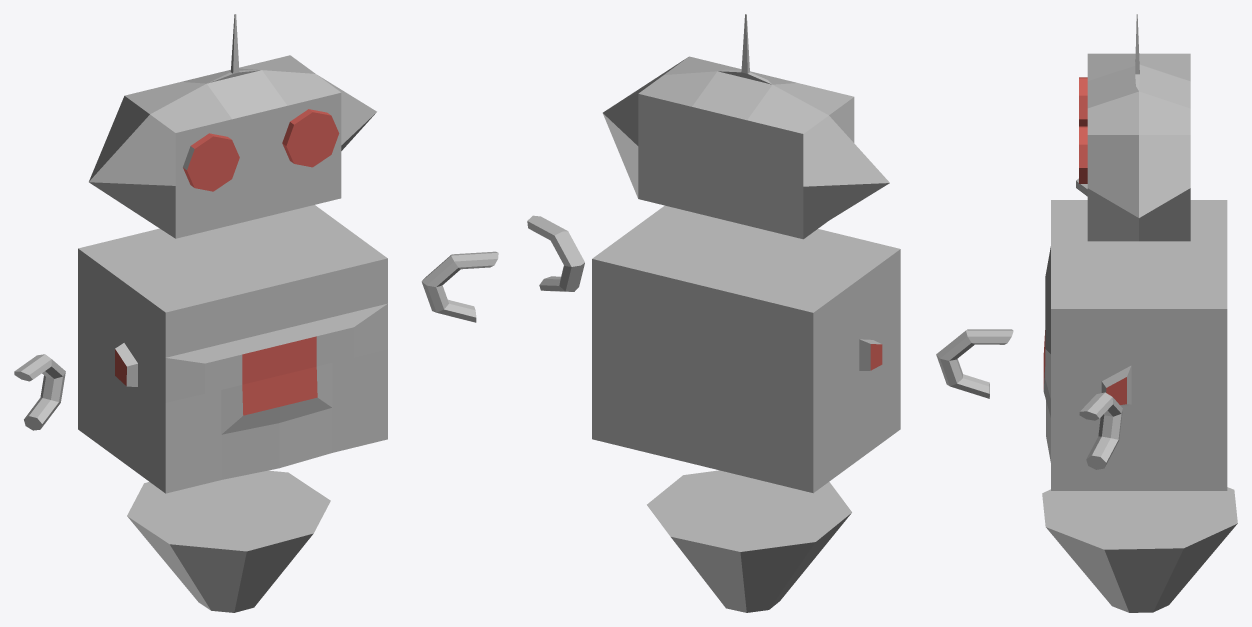
Rendered from laserrobot.fbx.
3 views of the same model, side by side, from view 1: azimuth 30°, elevation 25°; view 2: azimuth 150°, elevation 25°; view 3: azimuth 270°, elevation 25° (orthographic).
Visible parts, largest first — view 1: Cube; view 2: Cube; view 3: Cube.
Boxes of the visible parts, x1=… form: Cube: x1=14, y1=14, x2=498, y2=612; Cube: x1=527, y1=14, x2=1013, y2=612; Cube: x1=1042, y1=14, x2=1237, y2=612.
Size of the model in its own units: 1.6 by 1.85 by 0.5564.
